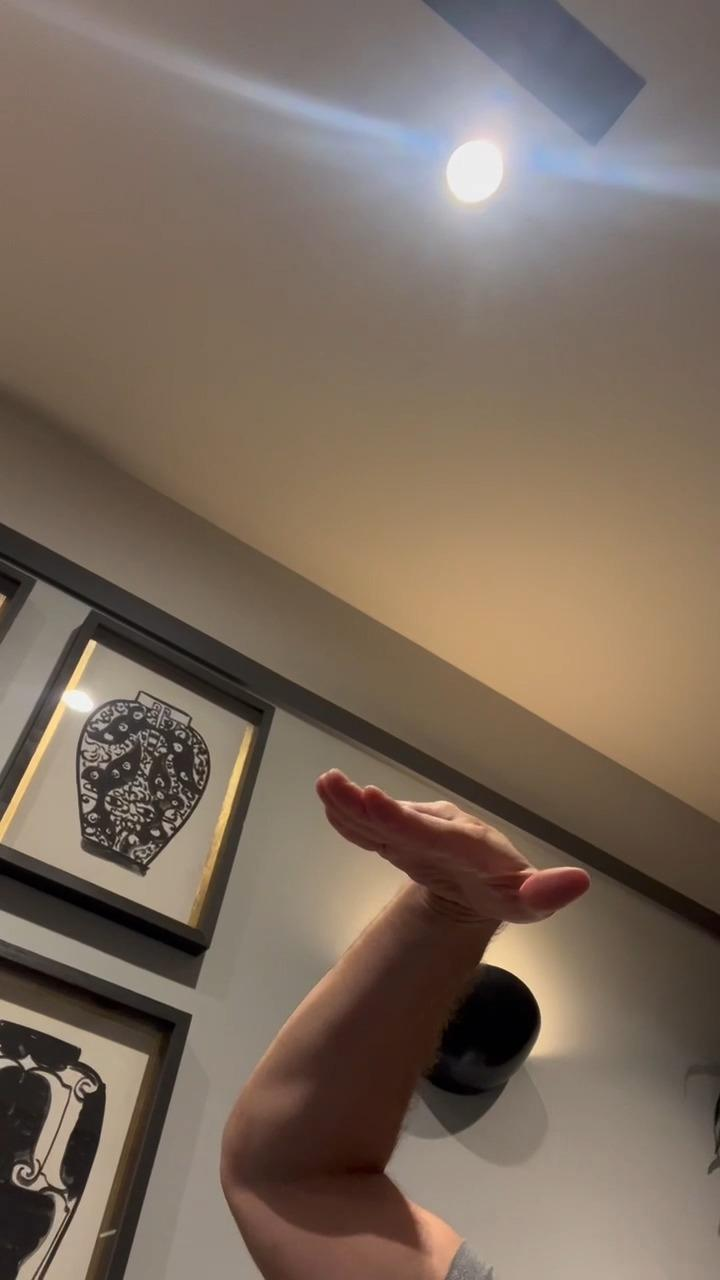Paper: (316, 769, 593, 924)
